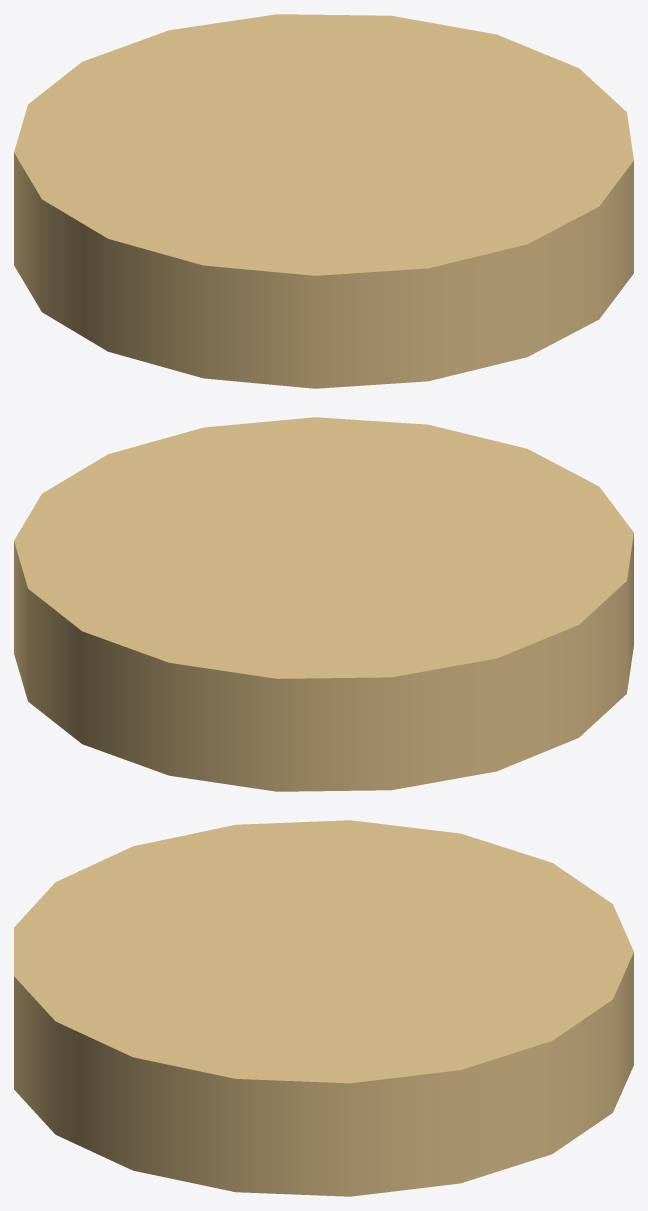
The model's file is coin.glb.
3 renders of one model, top to bottom at view 1: azimuth 30°, elevation 25°; view 2: azimuth 150°, elevation 25°; view 3: azimuth 270°, elevation 25°, orthographic.
Visible parts, largest first — view 1: coin; view 2: coin; view 3: coin.
Part boxes in pixels (x1=…): coin: x1=14, y1=14, x2=633, y2=388; coin: x1=14, y1=417, x2=633, y2=791; coin: x1=14, y1=820, x2=633, y2=1196.
Bounding box in the file's own units: 0.0498 × 0.01 × 0.0496.
